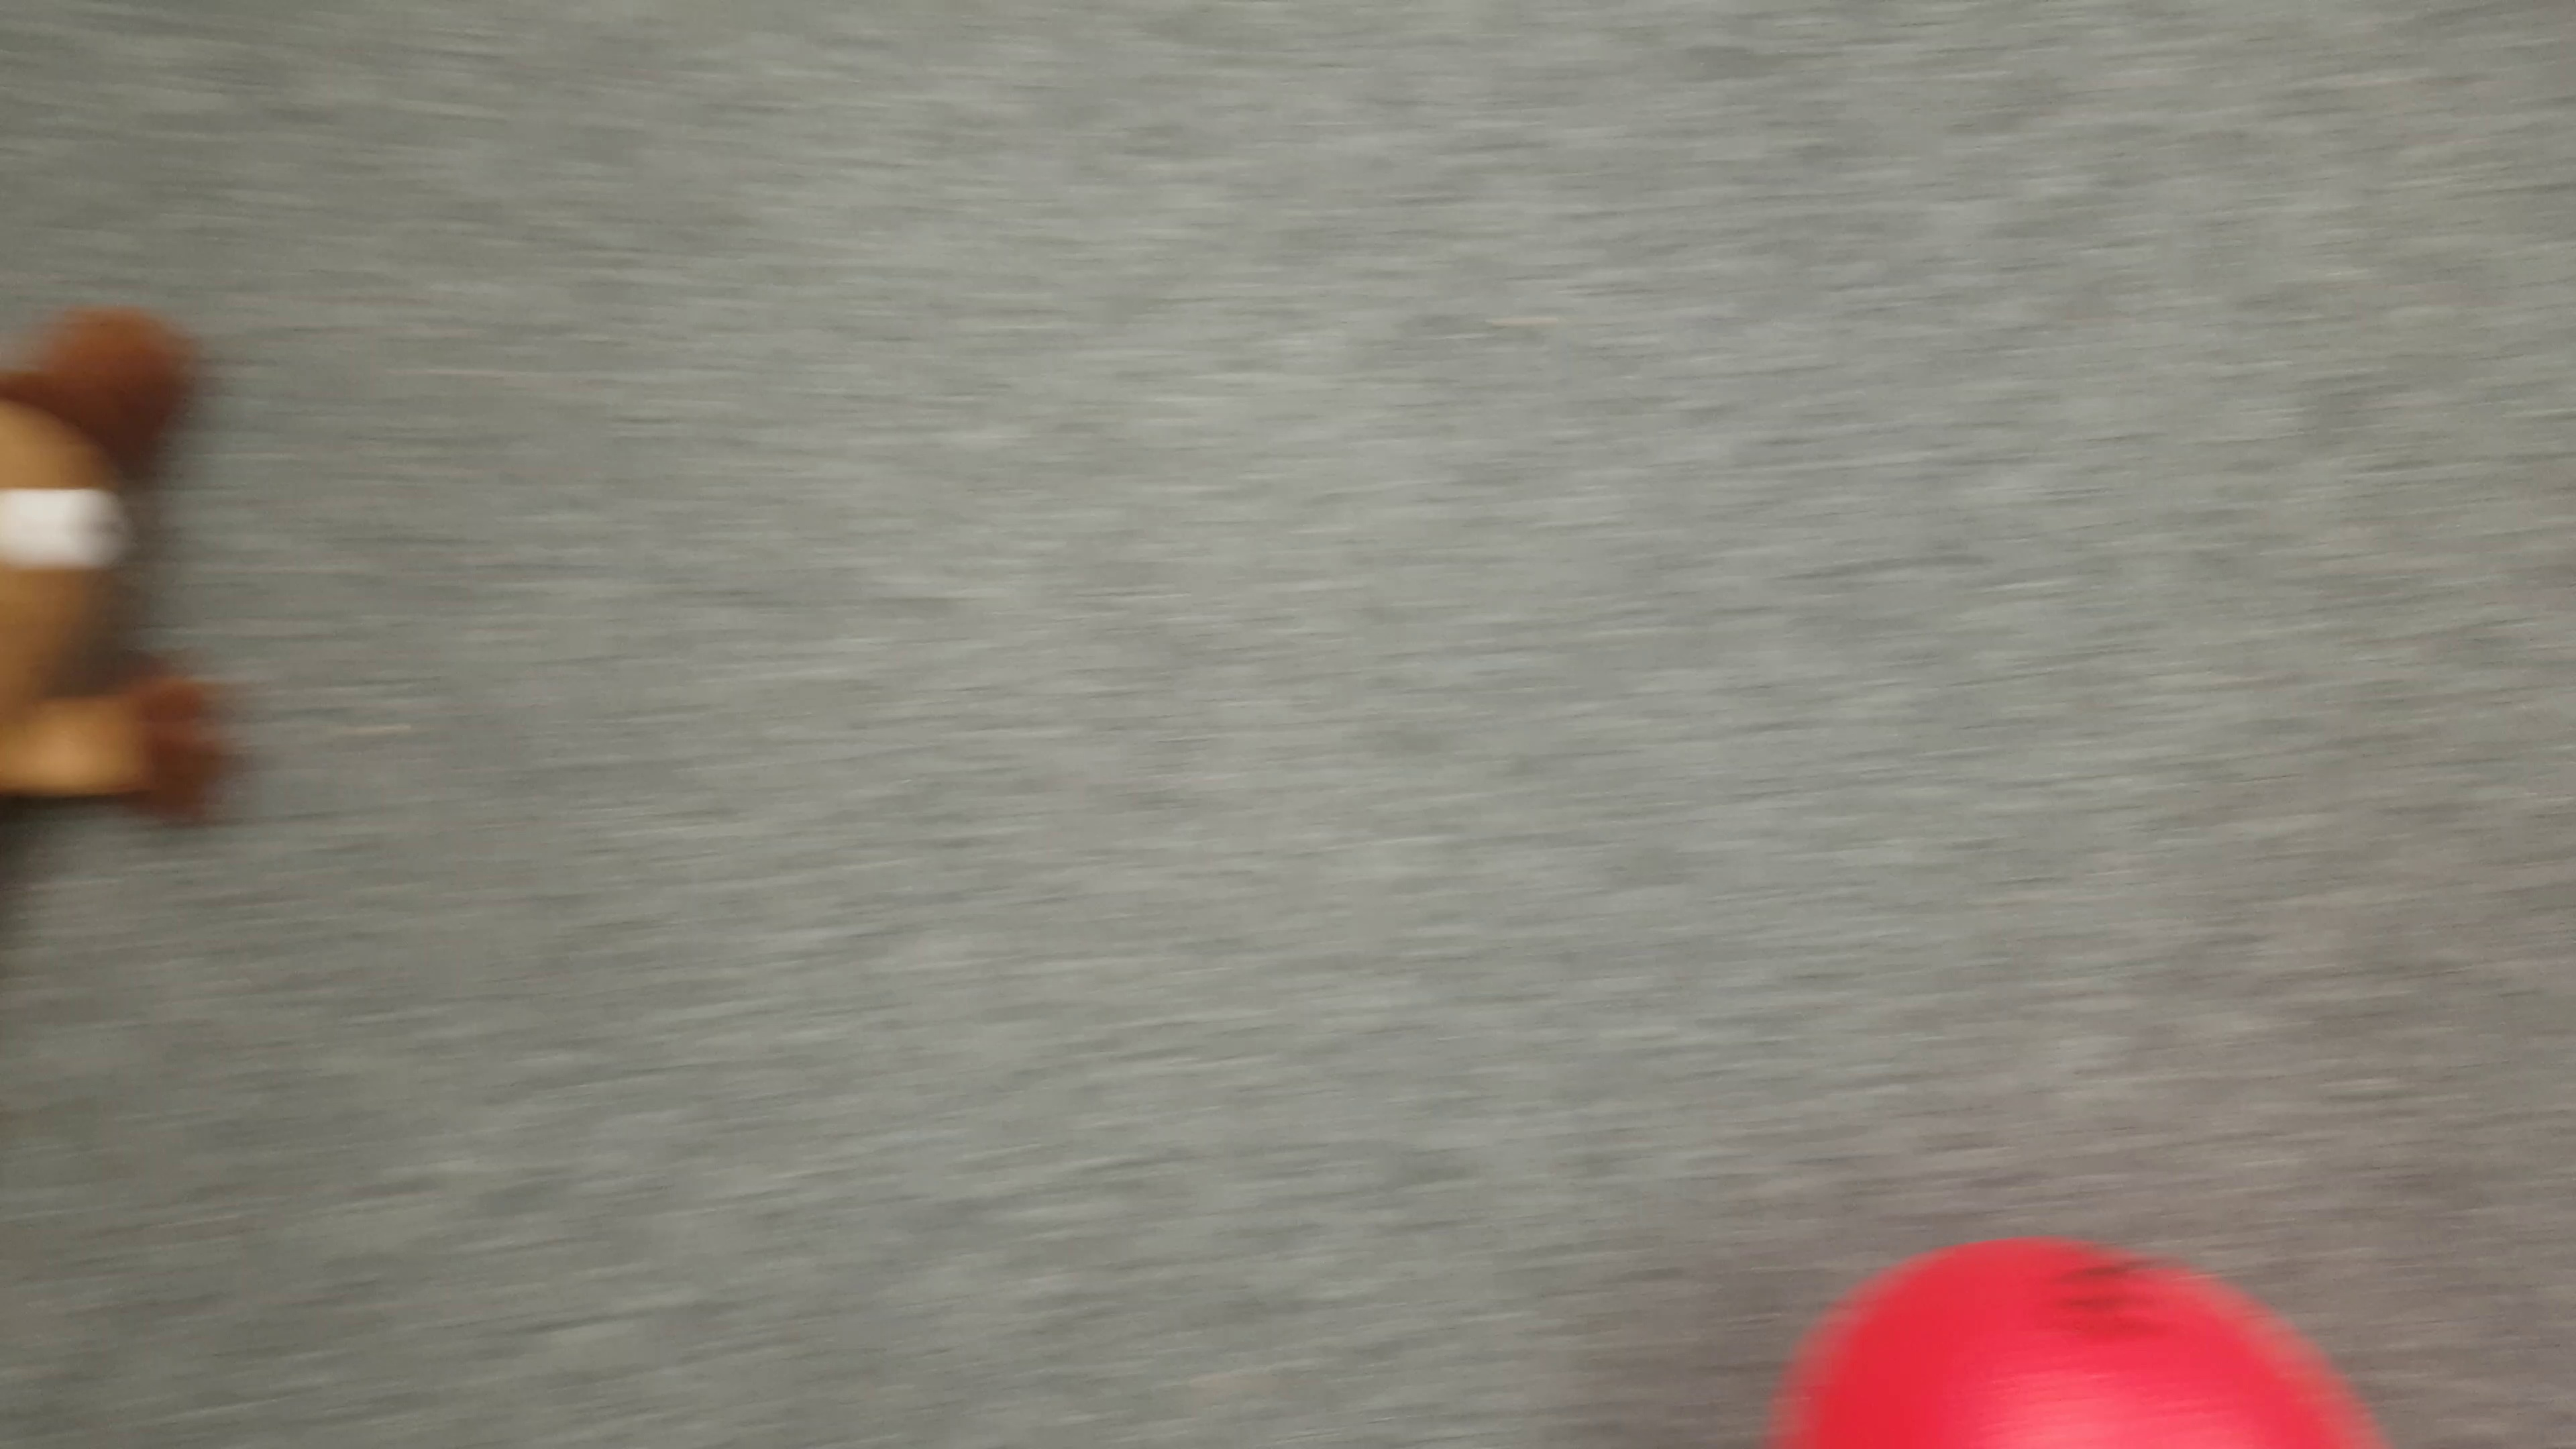kick: (1783, 1240, 2383, 1449)
